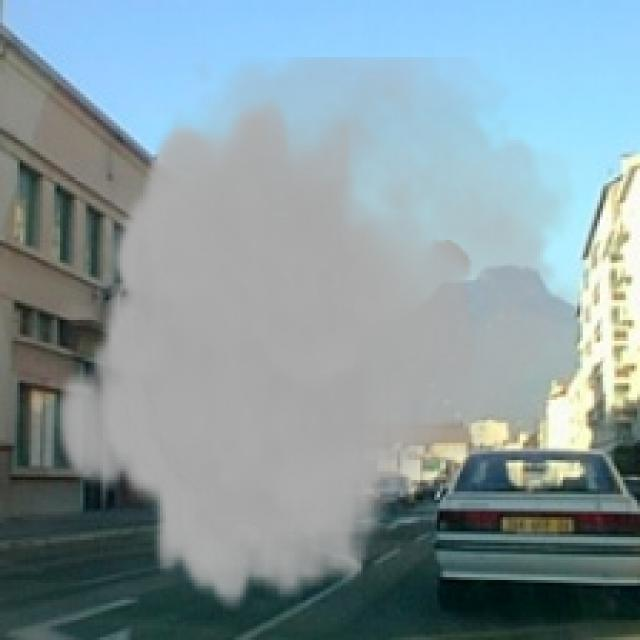smoke: (51, 57, 592, 612)
